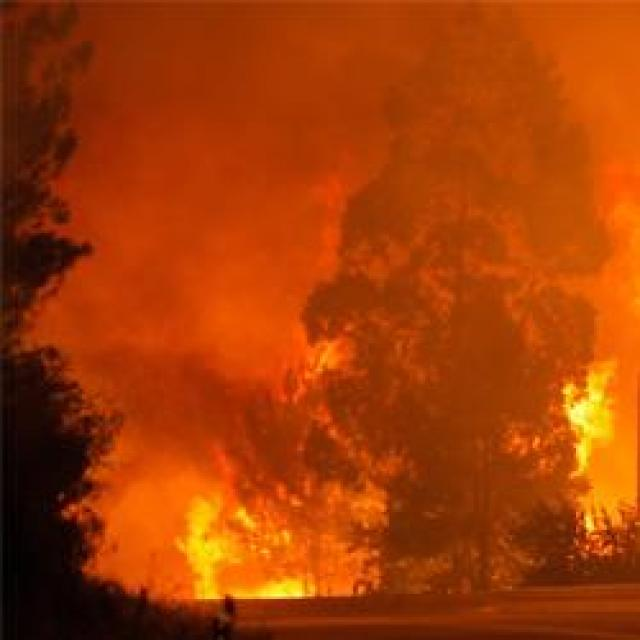fire: (102, 471, 414, 613), (270, 159, 382, 420), (529, 345, 640, 576)
